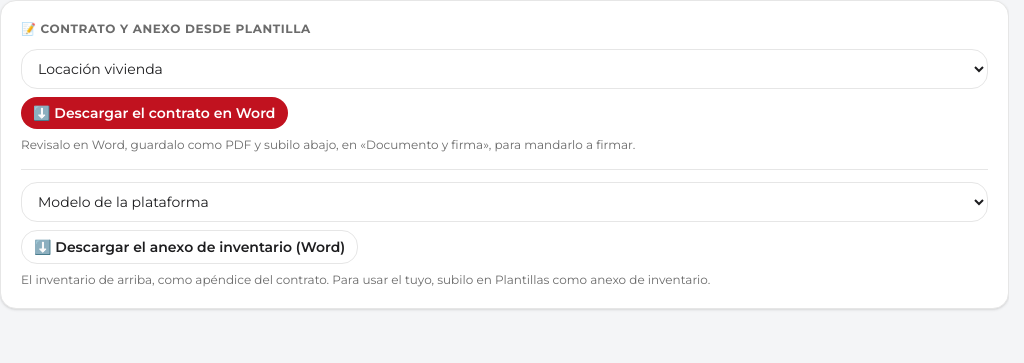
Test: GenerarContrato › el error de la API se ve
Click the button "⬇️ Descargar el contrato en Word": (154, 113) [21, 97, 288, 129]
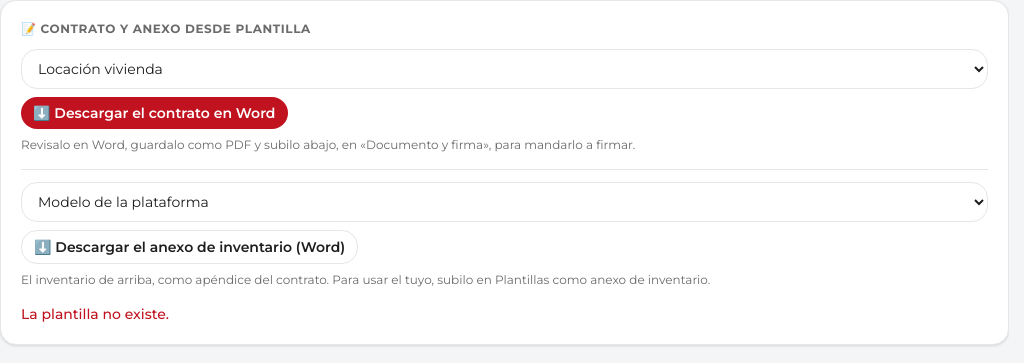
Now the message reads "La plantilla no existe.", box [21, 305, 169, 323]
